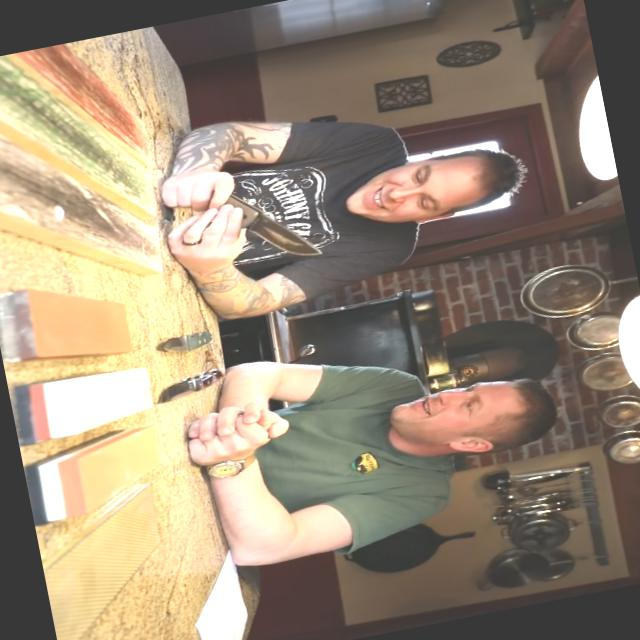knife: (198, 166, 339, 281)
